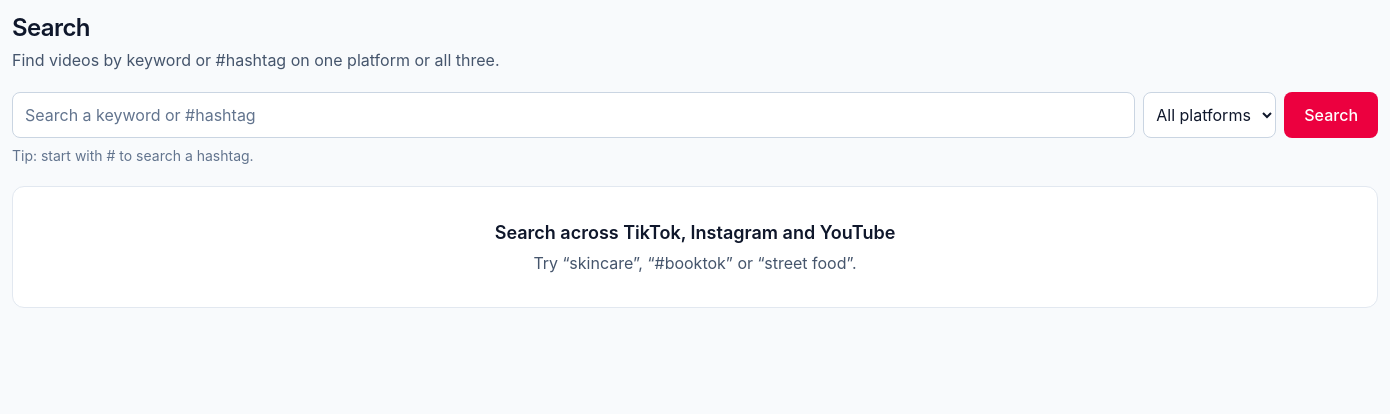
Test: SearchView › shows an empty state naming the query
This screenshot has width=1390, height=414.
Type "zzzz" into the search field named "Keyword or hashtag".
click(574, 115); type("zzzz")  # box [12,92,1135,138]
Then press Enter
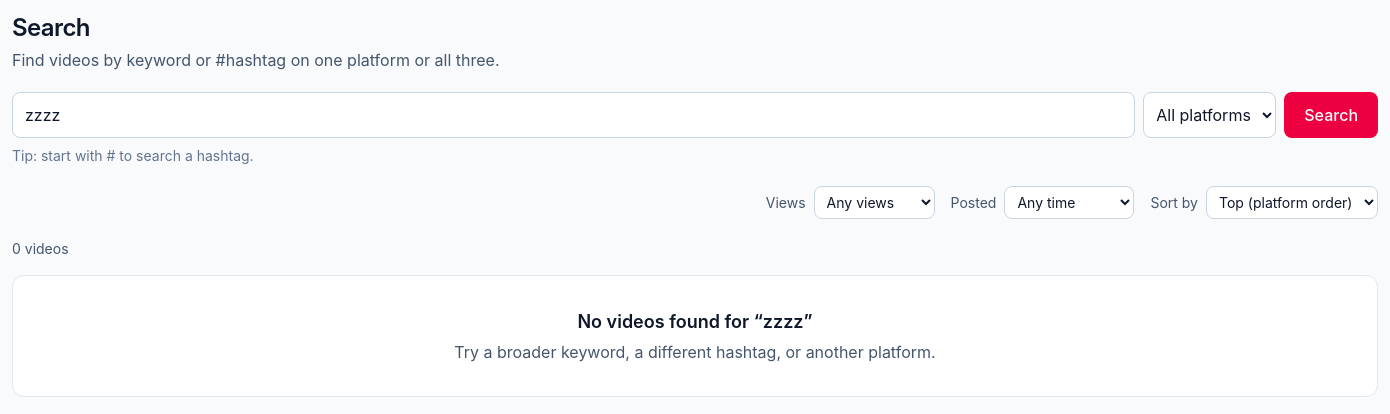
Check: the heading "No videos found for “zzzz”" is shown, box [577,311,812,332]
